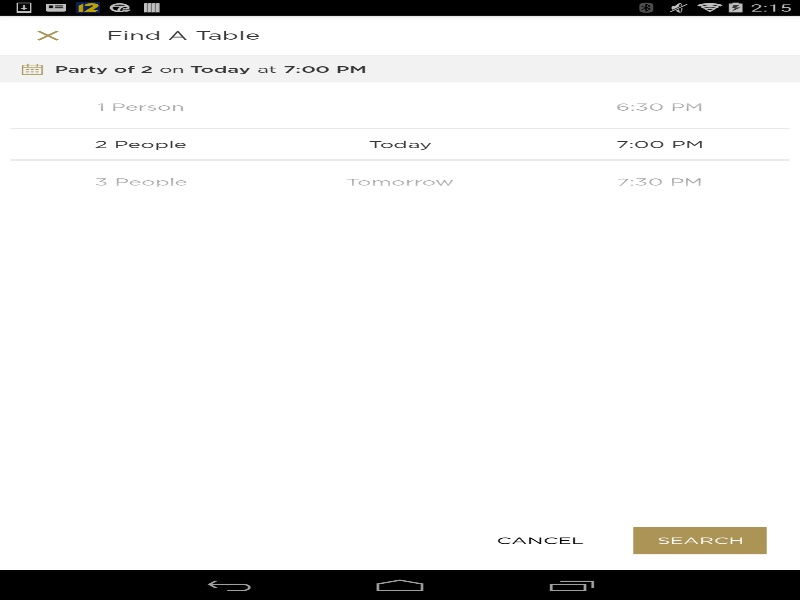Button: (10, 88, 270, 129), (10, 159, 270, 200), (270, 159, 530, 200), (530, 88, 789, 129), (530, 159, 789, 200), (473, 526, 606, 554), (633, 526, 766, 554), (10, 15, 85, 55)
Input: (10, 129, 270, 159), (270, 129, 530, 159), (530, 129, 789, 159)
